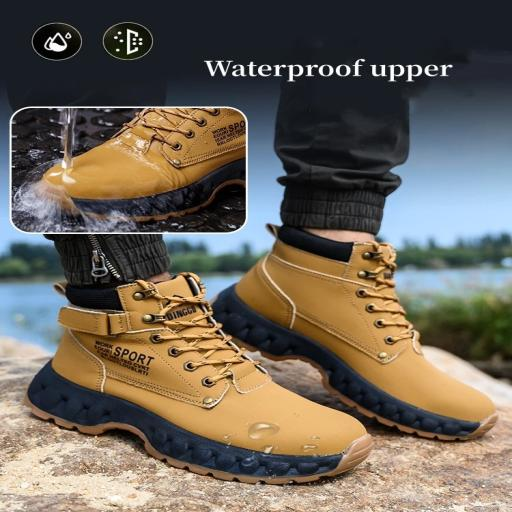safety_boots: (14, 291, 364, 483), (218, 234, 499, 444)
